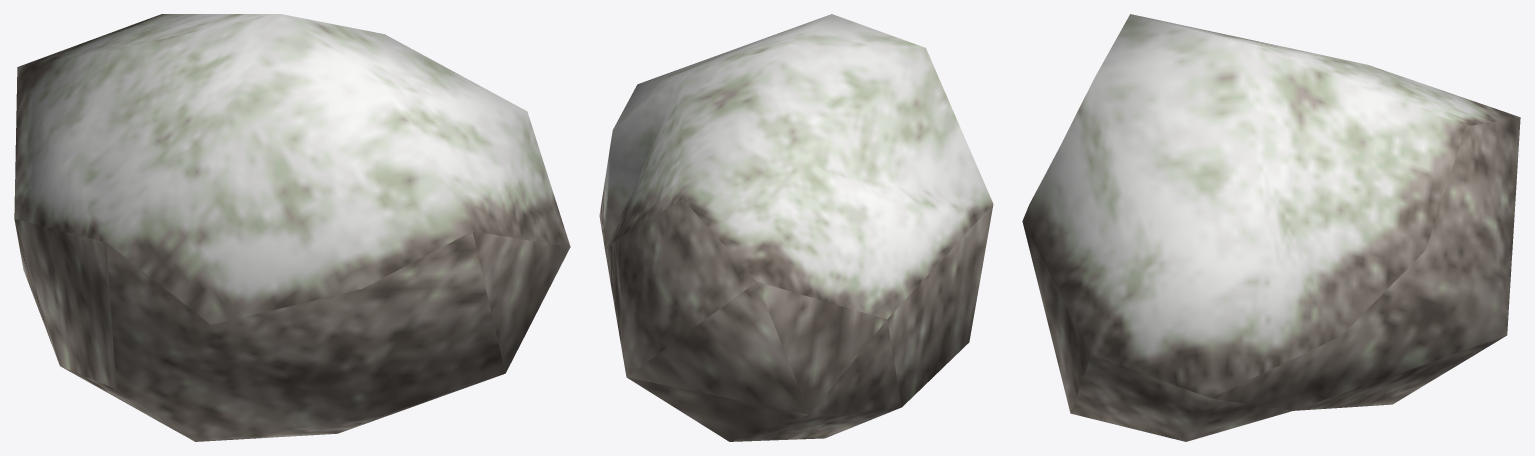
Rendered from lbouldersno_1.dae.
3 renders of one model, left to right at view 1: azimuth 30°, elevation 25°; view 2: azimuth 150°, elevation 25°; view 3: azimuth 270°, elevation 25°, orthographic. The views are drawn at different scales.
Parts seen in each view (by area): view 1: lbouldersno_1; view 2: lbouldersno_1; view 3: lbouldersno_1.
Boxes of the visible parts, left/top/right/bottom form: lbouldersno_1: left=14, top=14, right=570, bottom=441; lbouldersno_1: left=599, top=14, right=993, bottom=441; lbouldersno_1: left=1022, top=14, right=1520, bottom=441.
Size of the model in its own units: 2.08 by 2.17 by 1.76.
Materials: 1 (1 with a texture image).
